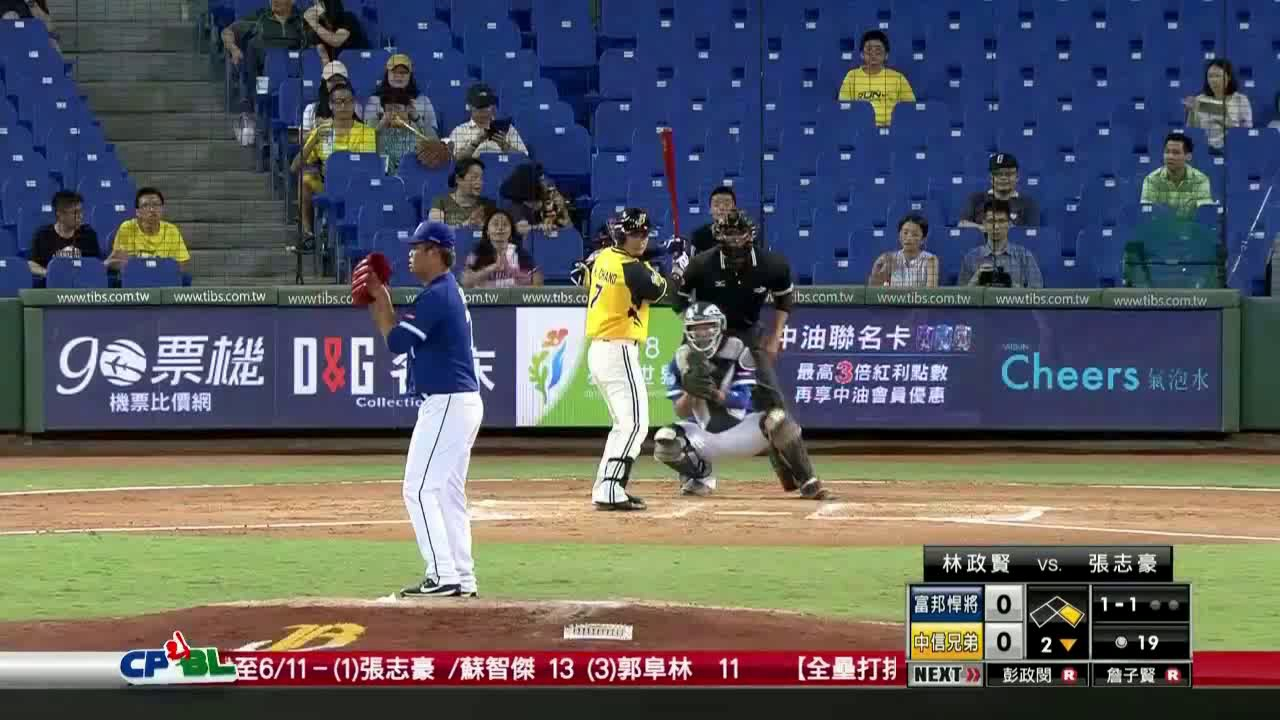base: (1029, 590, 1088, 628)
bat: (653, 122, 685, 245)
out: (1144, 588, 1186, 616)
score1: (987, 586, 1021, 618)
score2: (987, 625, 1020, 657)
session: (1028, 630, 1086, 657)
strikeball: (1095, 588, 1141, 617)
total: (1093, 628, 1187, 655)
